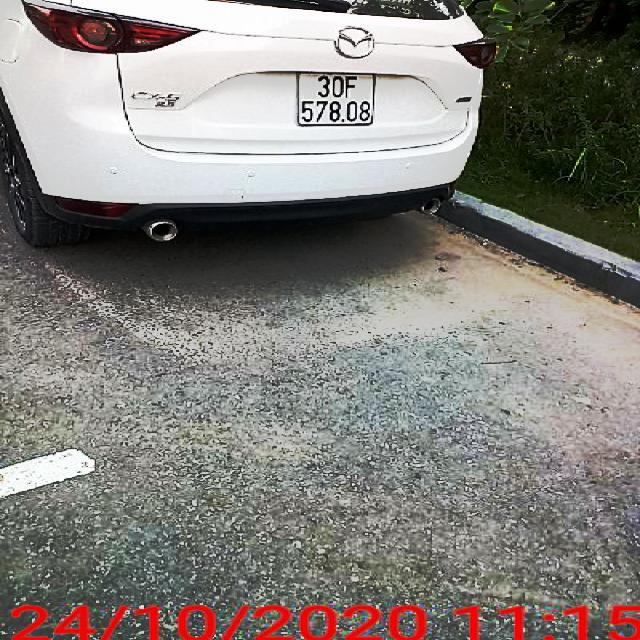license_plate: (298, 72, 377, 126)
